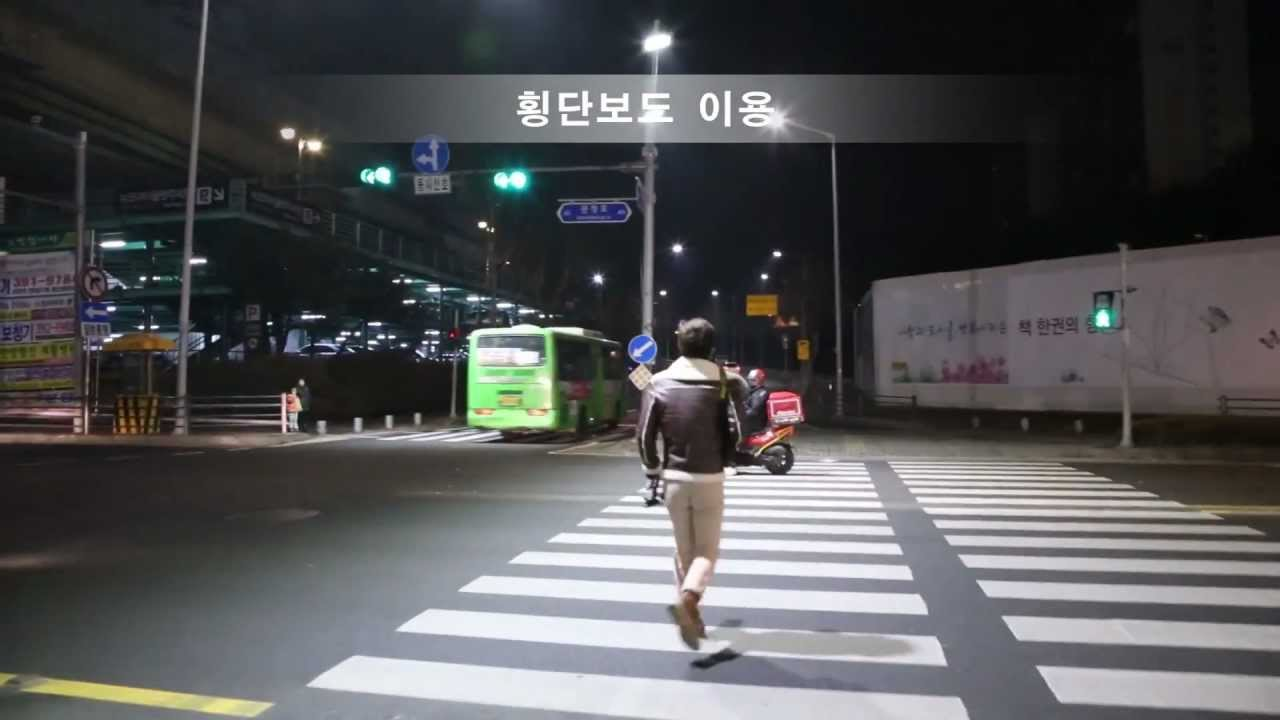traffic_light: (1093, 292, 1114, 331)
